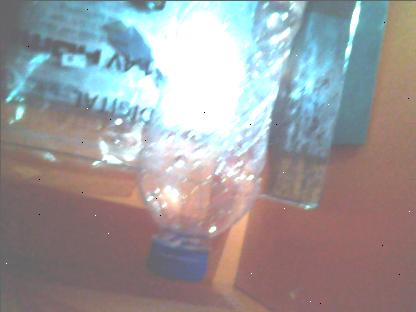Plastic Bottle: (121, 0, 322, 290)
